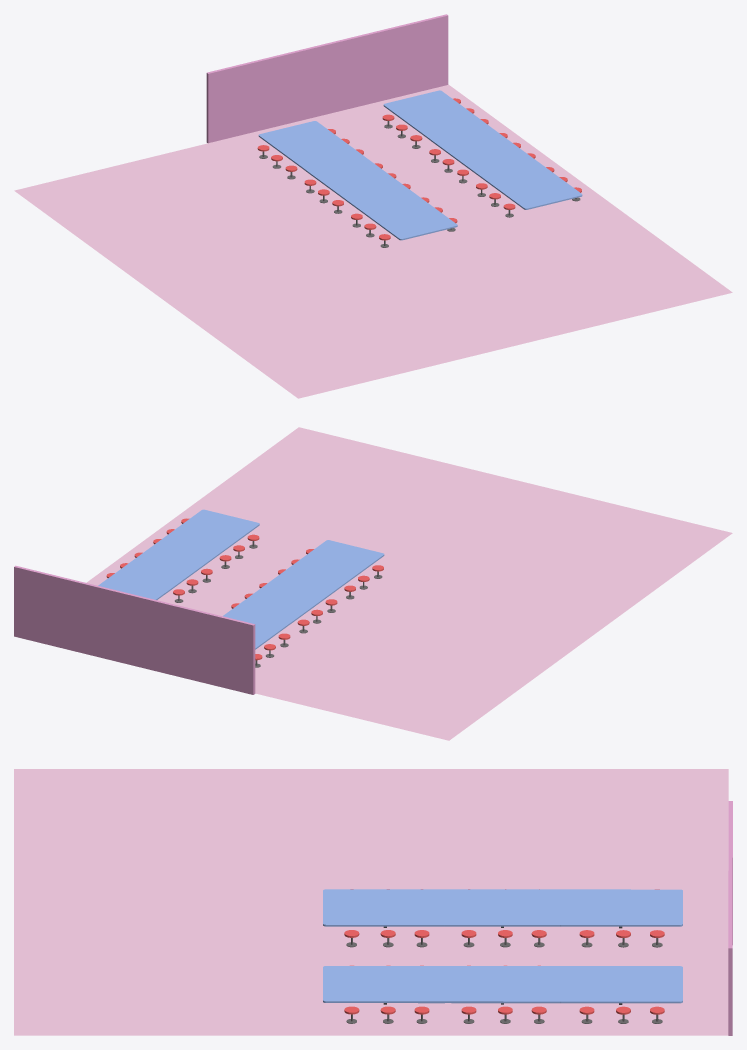
Rendered from eating.dae.
3 views of the same model, one above another, from view 1: azimuth 30°, elevation 25°; view 2: azimuth 150°, elevation 25°; view 3: azimuth 270°, elevation 25° (orthographic). The views are drawn at different scales.
Visible parts, largest first — view 1: Plane.001, Cube.008, table2.001, table2; view 2: Plane.001, Cube.008, table2.001, table2; view 3: Plane.001, table2.001, table2, Cube.008.
Part boxes in pixels (x1,y1,x2,y2): Plane.001: [14, 84, 732, 398]; Cube.008: [206, 14, 448, 143]; table2.001: [257, 121, 457, 247]; table2: [382, 90, 582, 217]; Plane.001: [86, 427, 732, 740]; Cube.008: [14, 565, 255, 694]; table2.001: [223, 540, 384, 667]; table2: [98, 509, 259, 602]; Plane.001: [14, 769, 728, 1035]; table2.001: [323, 889, 682, 947]; table2: [323, 965, 682, 1023]; Cube.008: [728, 801, 732, 1035].
Size of the model in its own units: 20.26 by 23.08 by 3.21.
